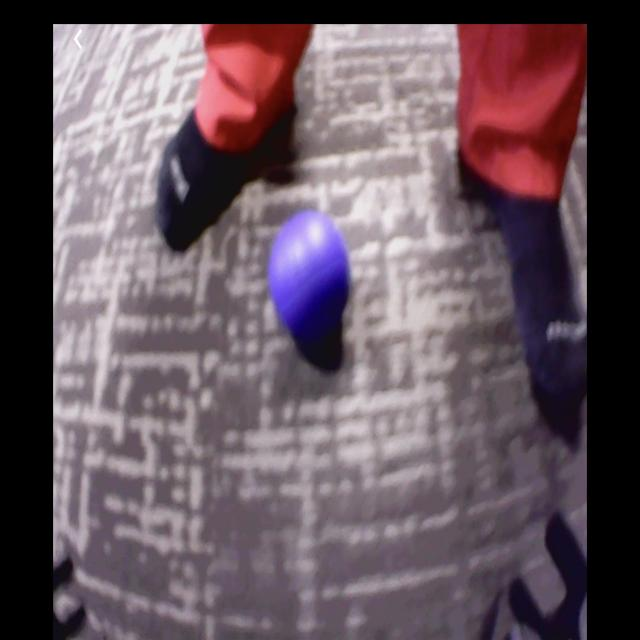ball: (272, 215, 351, 335)
